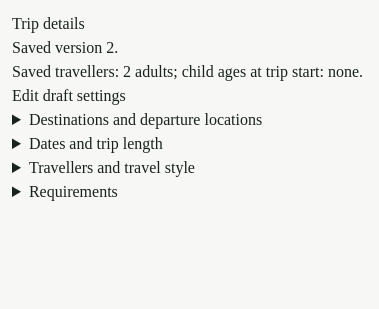
it: trip editor impact review › shows discard only for unsaved changes and restores saved values without a request
Expected: the button "Discard changes" is not shown
Set the slider named "Pace: relaxed to full days" to "7" at (112, 168), box top-left (29, 159), bottom-right (195, 176)
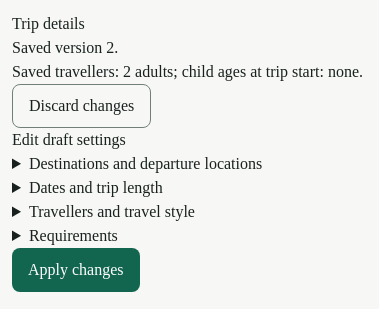
Click the button "Discard changes" at (82, 106), box top-left (12, 84), bottom-right (151, 128)
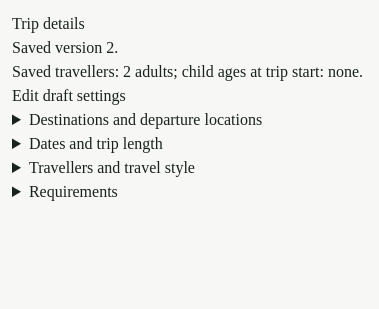
Expected: the element named "Pace: relaxed to full days" holds "6", top-left (29, 159), bottom-right (195, 176)
Expected: the button "Discard changes" is gone
